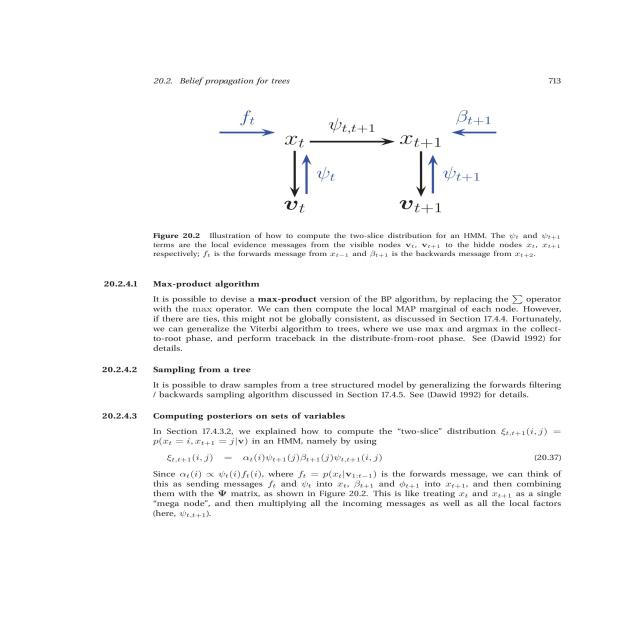diagram: (99, 91, 629, 267)
